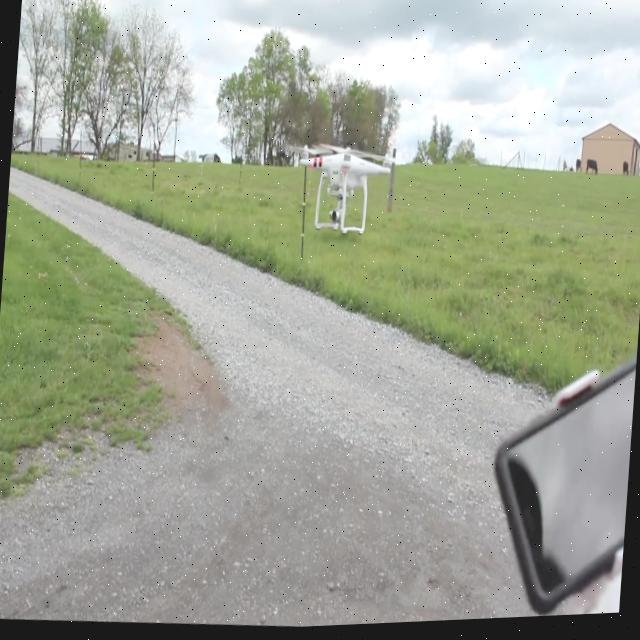drone: (291, 138, 394, 242)
